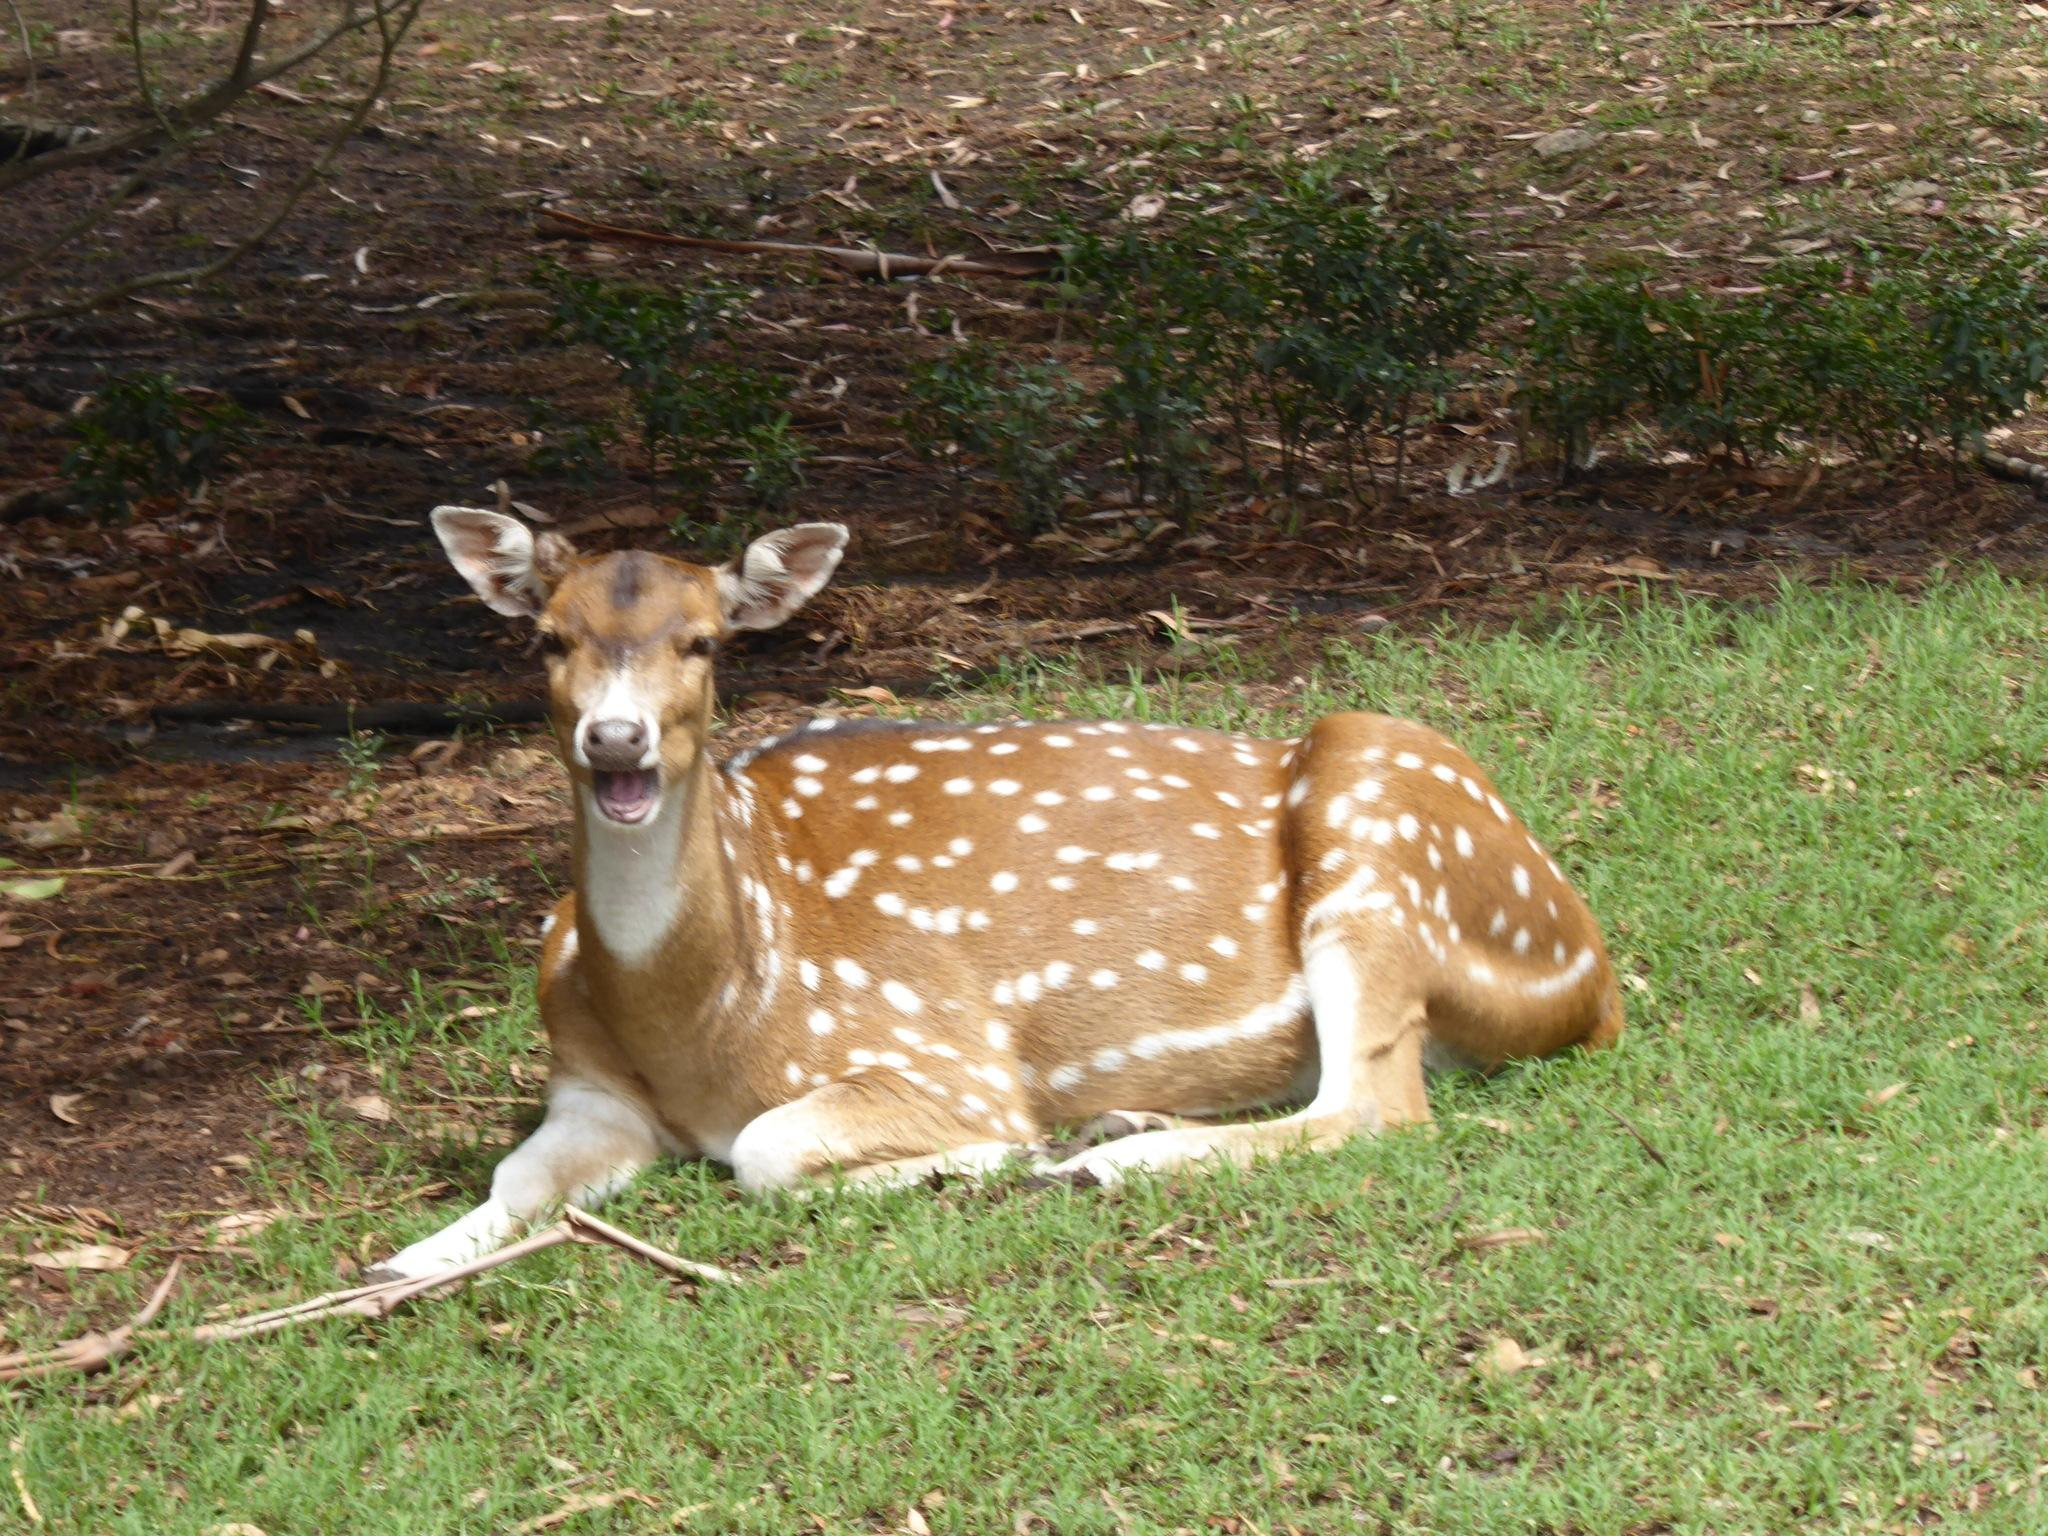Deer: (393, 507, 1621, 1276)
